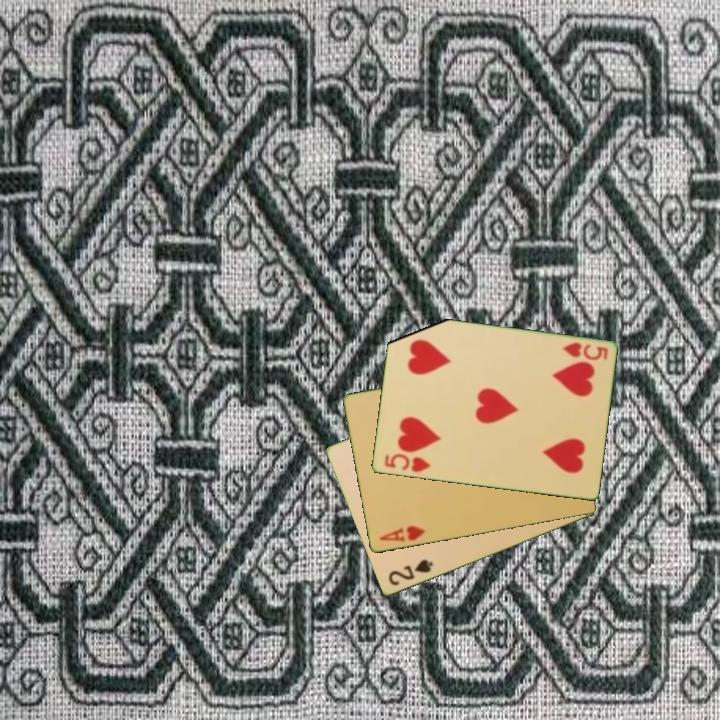2s: (385, 556, 436, 589)
5h: (380, 450, 433, 475), (558, 339, 610, 363)
Ah: (376, 522, 428, 546)
